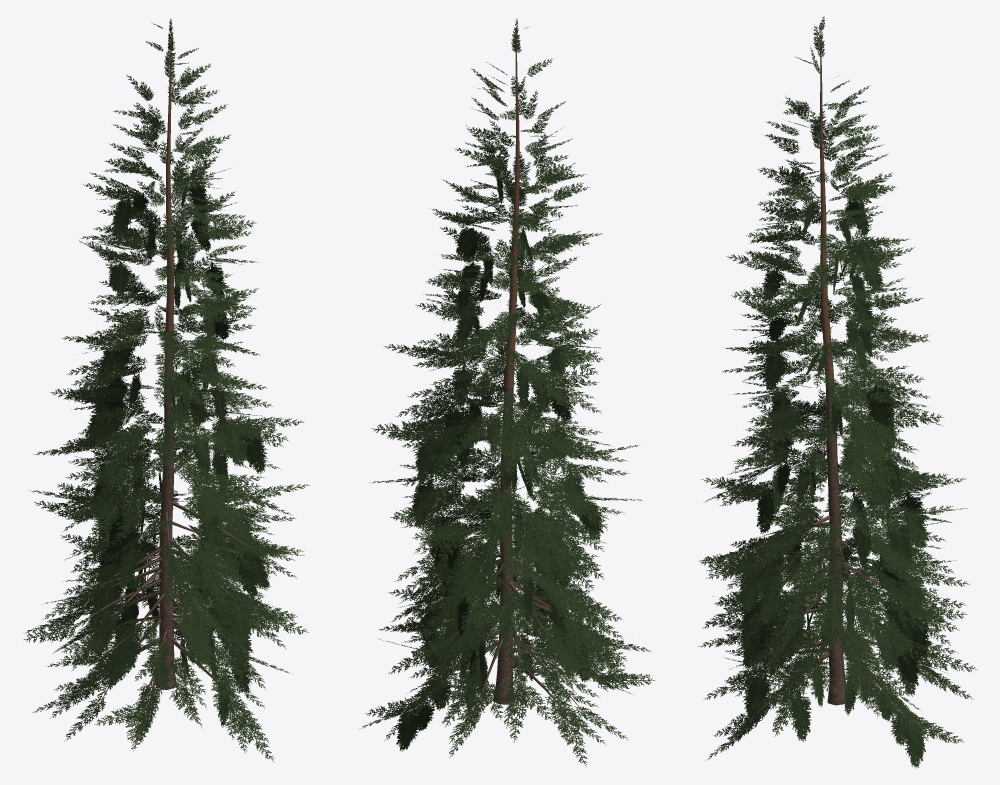
Rendered from spruce_c_LOD1.fbx.
The picture shows the model from 3 angles, left to right: view 1: azimuth 30°, elevation 25°; view 2: azimuth 150°, elevation 25°; view 3: azimuth 270°, elevation 25°; orthographic projection.
Parts seen in each view (by area): view 1: Spruce_C_LOD1_Foliage, Spruce_C_LOD1_Bark; view 2: Spruce_C_LOD1_Foliage, Spruce_C_LOD1_Bark; view 3: Spruce_C_LOD1_Foliage, Spruce_C_LOD1_Bark.
Part boxes in pixels (x1,y1,x2,y2): Spruce_C_LOD1_Foliage: (23, 18, 309, 762); Spruce_C_LOD1_Bark: (70, 19, 265, 726); Spruce_C_LOD1_Foliage: (362, 18, 655, 766); Spruce_C_LOD1_Bark: (409, 18, 610, 728); Spruce_C_LOD1_Foliage: (698, 16, 977, 768); Spruce_C_LOD1_Bark: (738, 25, 930, 731).
Bounding box in the file's own units: 11.78 × 29.86 × 11.09.
Materials: 2 (2 with a texture image).
